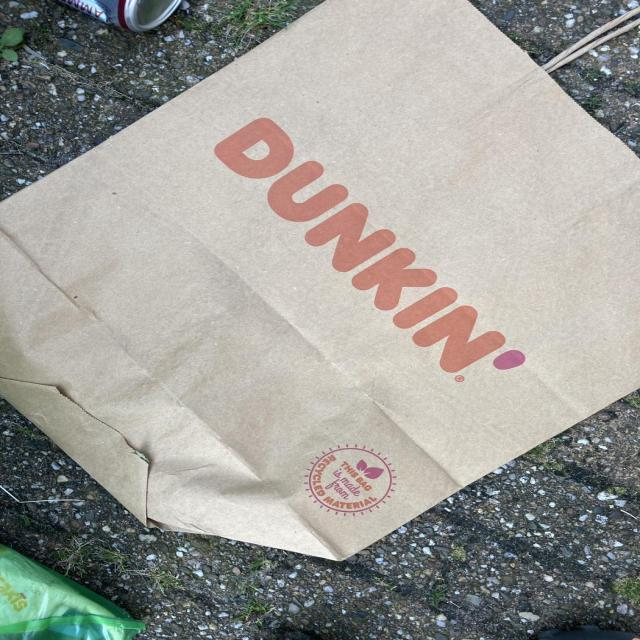Paper: (0, 0, 639, 563)
